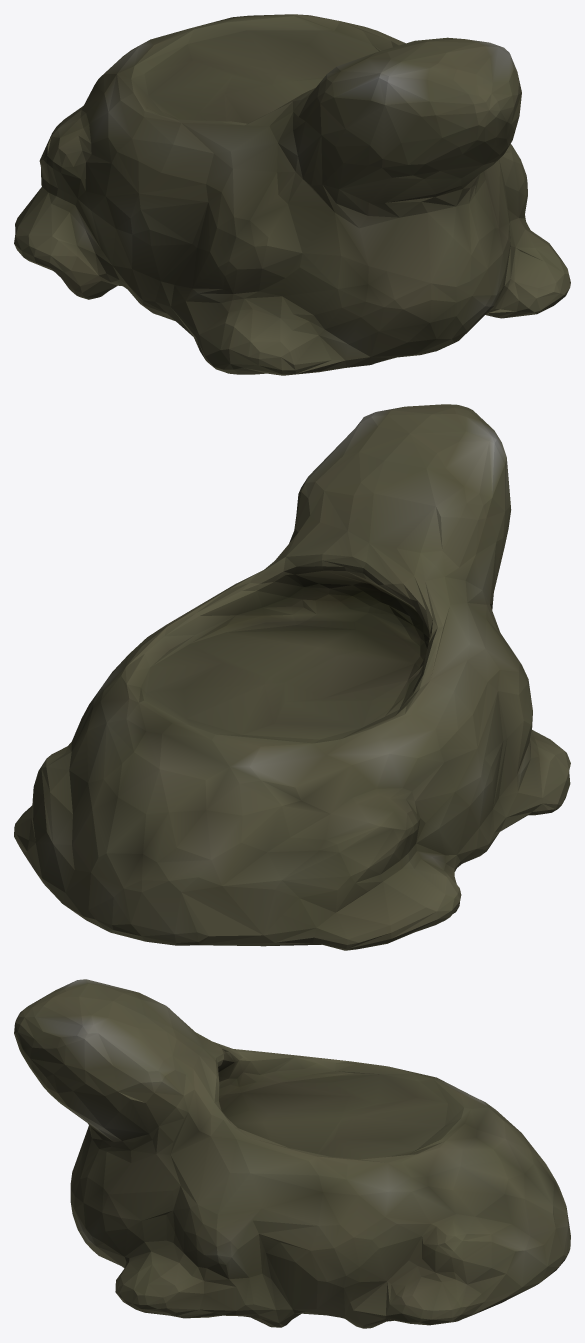
File: toadinkstone_8b99ce68.glb
3 renders of one model, top to bottom at view 1: azimuth 30°, elevation 25°; view 2: azimuth 150°, elevation 25°; view 3: azimuth 270°, elevation 25°, orthographic. The views are drawn at different scales.
Visible parts, largest first — view 1: SM_ToadInkStone_M_ToadInkStone_0; view 2: SM_ToadInkStone_M_ToadInkStone_0; view 3: SM_ToadInkStone_M_ToadInkStone_0.
Part boxes in pixels (left/top/right/bottom): SM_ToadInkStone_M_ToadInkStone_0: left=14, top=14, right=570, bottom=375; SM_ToadInkStone_M_ToadInkStone_0: left=14, top=404, right=570, bottom=950; SM_ToadInkStone_M_ToadInkStone_0: left=14, top=979, right=570, bottom=1328.
Bounding box in the file's own units: 0.1858 × 0.1416 × 0.261.
